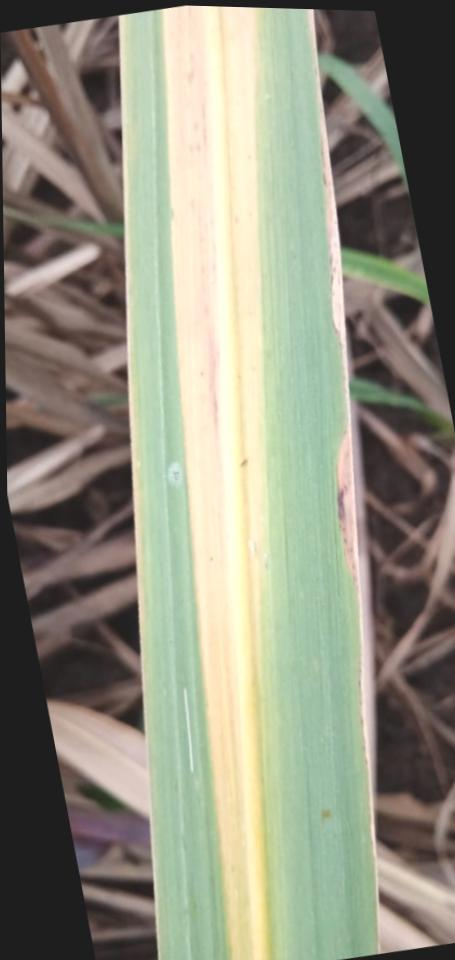Yellow: (163, 5, 250, 960), (220, 7, 270, 681), (306, 9, 357, 599), (123, 14, 146, 699)
